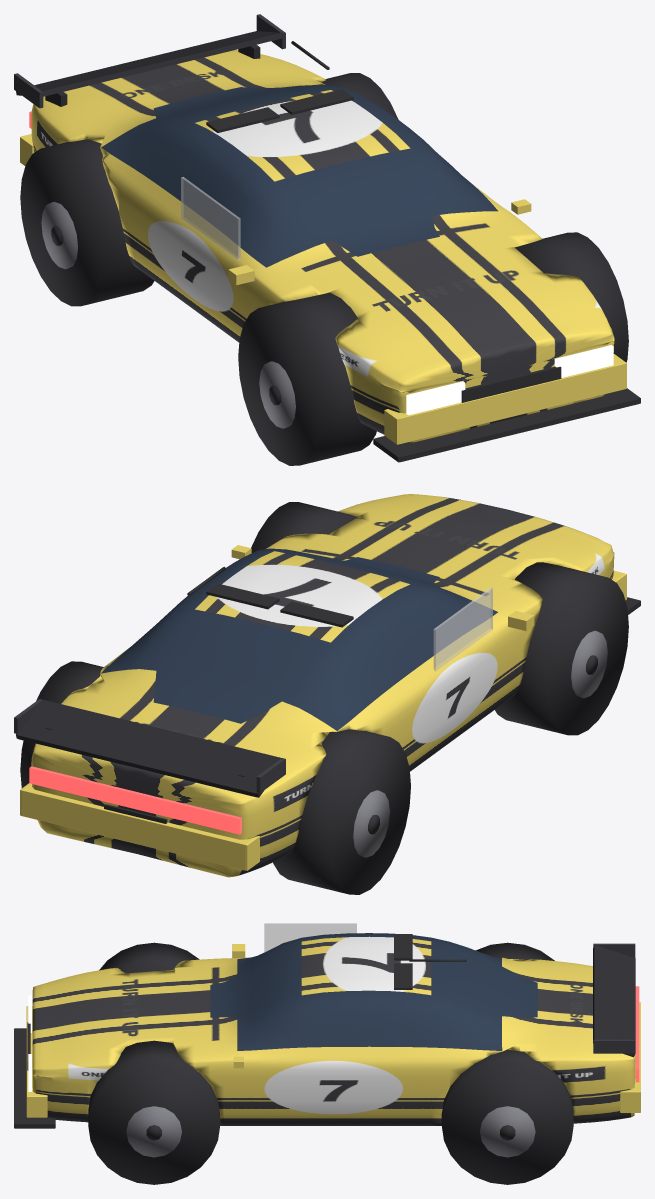
Rendered from car_1.glb.
3 renders of one model, top to bottom at view 1: azimuth 30°, elevation 25°; view 2: azimuth 150°, elevation 25°; view 3: azimuth 270°, elevation 25°, orthographic. The views are drawn at different scales.
Parts seen in each view (by area): view 1: body, cutter, cutter.002, bumperF, cutter.001, splitter, spoiler, net, dish.002, dish, grille, headlight (+4 smaller); view 2: body, cutter, cutter.002, spoiler, bumperR, tail, net, cutter.001, cutter.003, dish, dish.002, flap.001 (+2 smaller); view 3: body, cutter.001, cutter.003, spoiler, dish.003, dish.001, cutter, splitter, net, cutter.002, bumperF, bumperR (+4 smaller).
Boxes of the visible parts, x1,y1,x2,y2 form: body: (31,50,614,442); cutter: (238,292,376,465); cutter.002: (20,139,154,306); bumperF: (384,354,626,444); cutter.001: (515,232,628,362); splitter: (373,388,640,462); spoiler: (16,31,283,96); net: (181,177,240,260); dish.002: (41,201,77,269); dish: (259,361,295,428); grille: (461,366,561,402); headlight: (406,381,465,415); body: (31,494,614,877); cutter: (495,562,628,735); cutter.002: (273,729,410,894); spoiler: (16,699,282,797); bumperR: (20,783,259,870); tail: (29,766,241,834); net: (433,587,492,671); cutter.001: (251,502,357,552); cutter.003: (20,661,103,788); dish: (571,630,607,698); dish.002: (353,790,389,857); flap.001: (206,583,279,609); body: (32,933,635,1125); cutter.001: (88,1040,220,1184); cutter.003: (441,1049,573,1184); spoiler: (593,944,635,1057); dish.003: (480,1106,535,1157); dish.001: (126,1106,181,1157); cutter: (99,942,199,973); splitter: (14,1028,55,1128); net: (264,923,356,952); cutter.002: (476,942,554,960); bumperF: (26,1006,47,1117); bumperR: (620,1002,640,1112).
Size of the model in its own units: 2.58 by 1.76 by 5.41.
Materials: 11 (1 with a texture image).
